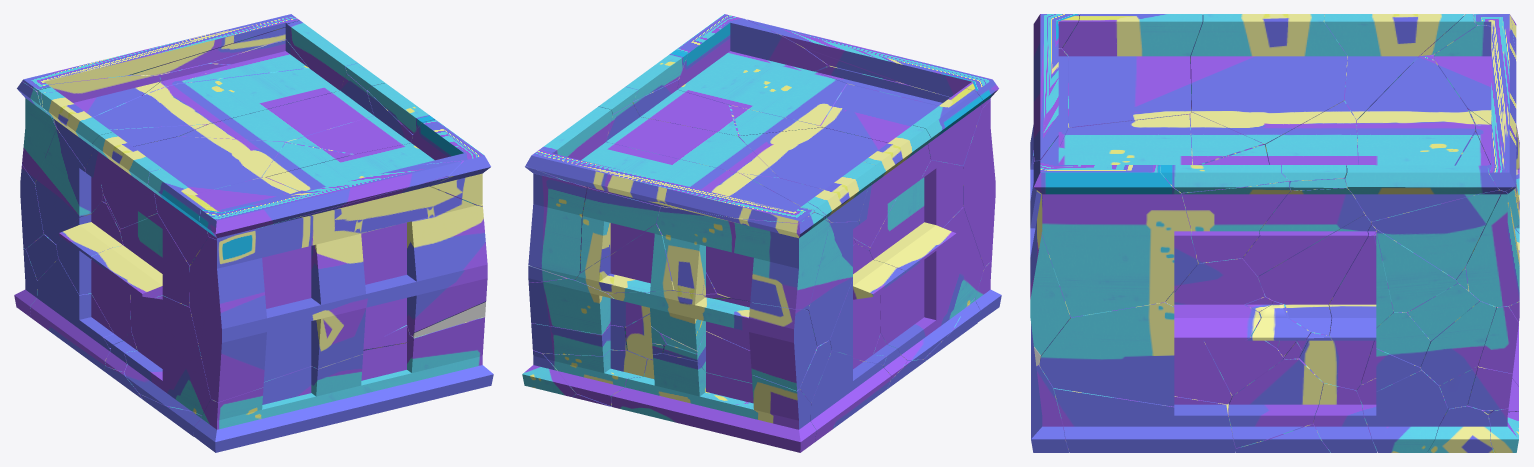
The model's file is T3-2_exploder.fbx.
3 renders of one model, left to right at view 1: azimuth 30°, elevation 25°; view 2: azimuth 150°, elevation 25°; view 3: azimuth 270°, elevation 25°, orthographic. The views are drawn at different scales.
Parts seen in each view (by area): view 1: Cube_cell.023, Cube_cell.035, Cube_cell.055, Cube_cell.047, Cube_cell.089, Cube_cell.037, Cube_cell.025, Cube_cell.064, Cube_cell.014, Cube_cell.036, Cube_cell.065, Cube_cell.009 (+17 smaller); view 2: Cube_cell.009, Cube_cell.037, Cube_cell.092, Cube_cell.047, Cube_cell.018, Cube_cell.089, Cube_cell.065, Cube_cell.055, Cube_cell.036, Cube_cell.087, Cube_cell.064, Cube_cell.023 (+20 smaller); view 3: Cube_cell.037, Cube_cell.047, Cube_cell.055, Cube_cell.061, Cube_cell.065, Cube_cell.064, Cube_cell.091, Cube_cell.050, Cube_cell.074, Cube_cell.049, Cube_cell.010, Cube_cell.086 (+30 smaller).
Boxes of the visible parts, x1=… form: Cube_cell.023: x1=189, y1=176, x2=487, y2=402; Cube_cell.035: x1=194, y1=317, x2=493, y2=452; Cube_cell.055: x1=37, y1=20, x2=357, y2=129; Cube_cell.047: x1=85, y1=132, x2=285, y2=228; Cube_cell.089: x1=124, y1=288, x2=210, y2=415; Cube_cell.037: x1=266, y1=119, x2=490, y2=206; Cube_cell.025: x1=199, y1=161, x2=462, y2=239; Cube_cell.064: x1=104, y1=74, x2=374, y2=231; Cube_cell.014: x1=56, y1=201, x2=131, y2=348; Cube_cell.036: x1=91, y1=213, x2=189, y2=306; Cube_cell.065: x1=148, y1=169, x2=301, y2=265; Cube_cell.009: x1=17, y1=74, x2=161, y2=183; Cube_cell.009: x1=656, y1=206, x2=829, y2=309; Cube_cell.037: x1=675, y1=14, x2=846, y2=125; Cube_cell.092: x1=611, y1=353, x2=816, y2=452; Cube_cell.047: x1=739, y1=125, x2=930, y2=247; Cube_cell.018: x1=608, y1=291, x2=817, y2=390; Cube_cell.089: x1=880, y1=207, x2=984, y2=360; Cube_cell.065: x1=821, y1=84, x2=982, y2=165; Cube_cell.055: x1=540, y1=106, x2=830, y2=222; Cube_cell.036: x1=869, y1=160, x2=963, y2=272; Cube_cell.087: x1=525, y1=149, x2=813, y2=223; Cube_cell.064: x1=606, y1=103, x2=869, y2=250; Cube_cell.023: x1=814, y1=65, x2=995, y2=267; Cube_cell.037: x1=1033, y1=114, x2=1198, y2=317; Cube_cell.047: x1=1190, y1=14, x2=1347, y2=144; Cube_cell.055: x1=1344, y1=14, x2=1499, y2=221; Cube_cell.061: x1=1039, y1=301, x2=1232, y2=406; Cube_cell.065: x1=1062, y1=14, x2=1202, y2=127; Cube_cell.064: x1=1242, y1=100, x2=1365, y2=276; Cube_cell.091: x1=1053, y1=388, x2=1235, y2=452; Cube_cell.050: x1=1324, y1=14, x2=1464, y2=119; Cube_cell.074: x1=1181, y1=144, x2=1291, y2=263; Cube_cell.049: x1=1371, y1=131, x2=1502, y2=279; Cube_cell.010: x1=1165, y1=258, x2=1264, y2=340; Cube_cell.086: x1=1258, y1=214, x2=1371, y2=335.
Size of the model in its own units: 183 by 120 by 192.
